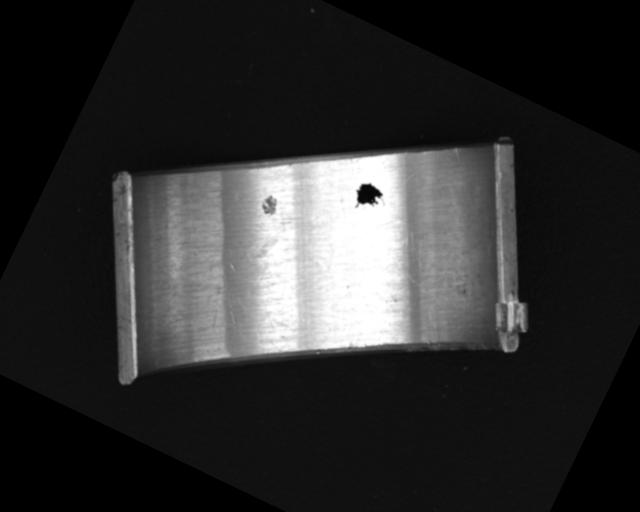blot: (349, 178, 392, 219)
bruise: (257, 191, 283, 219)
nick: (450, 145, 465, 162)
